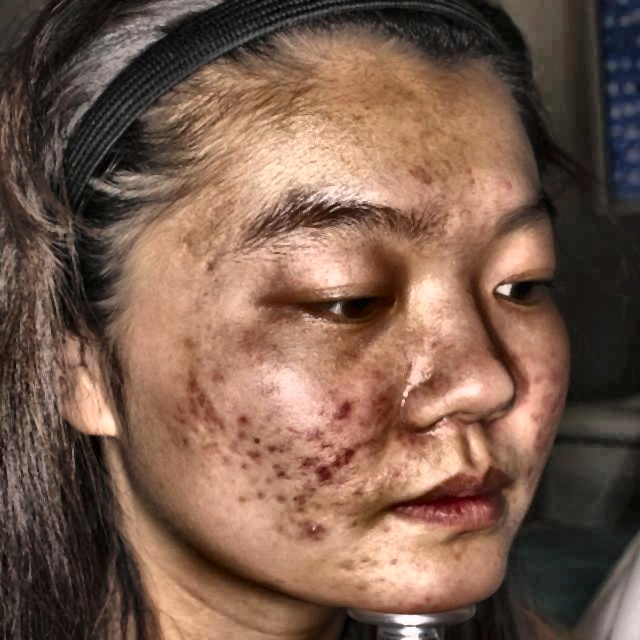pustule: (293, 512, 333, 547), (315, 394, 355, 427), (232, 439, 265, 472), (172, 364, 202, 396), (170, 425, 199, 458), (229, 404, 257, 435), (321, 441, 362, 461), (314, 464, 341, 492), (194, 396, 220, 422), (294, 448, 317, 469)
